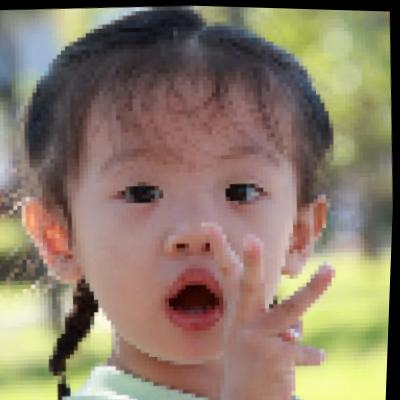surprise: (54, 62, 314, 364)
